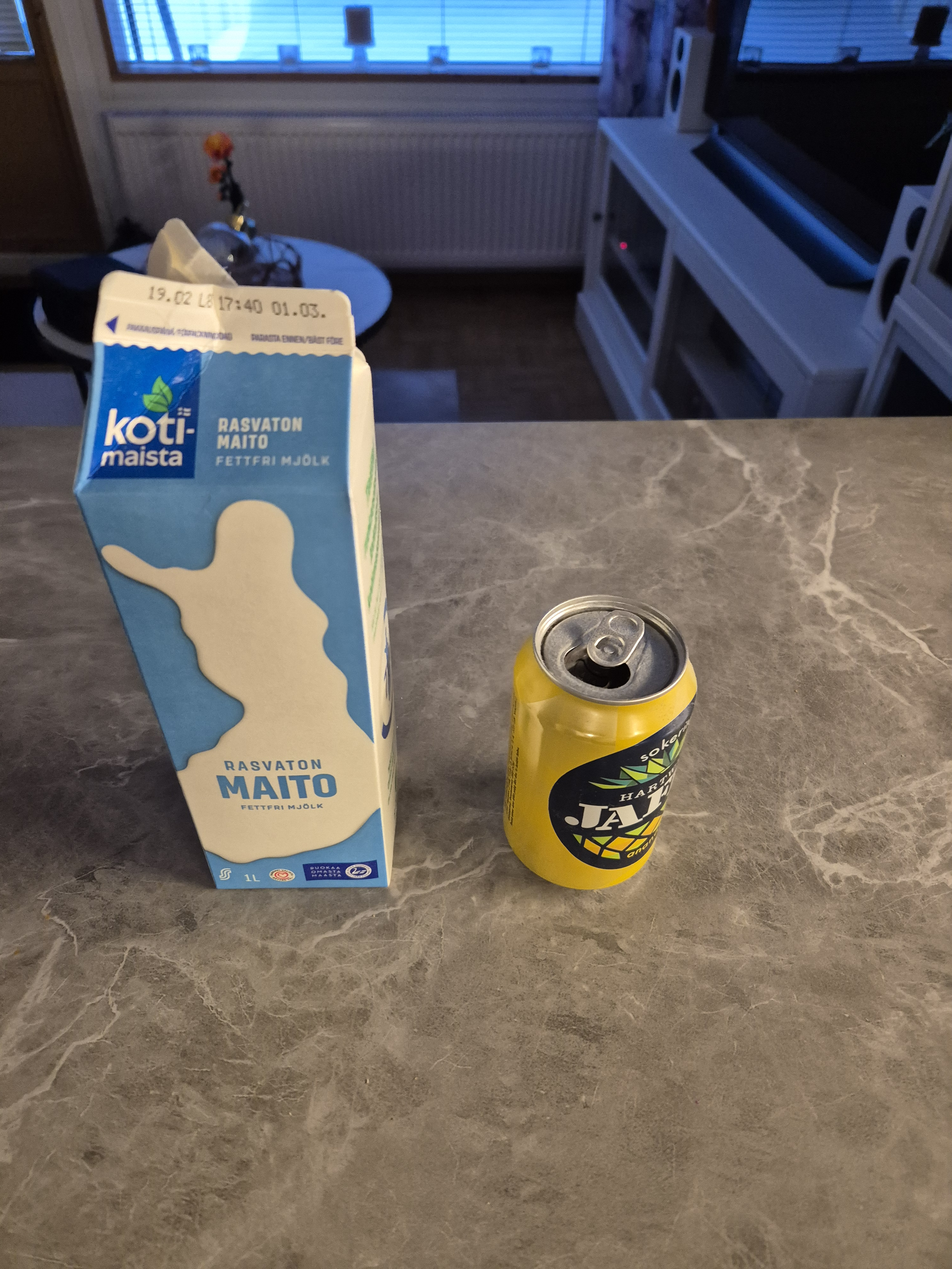Dryckeskartong: (68, 217, 402, 892)
Pantburk: (501, 594, 699, 891)
